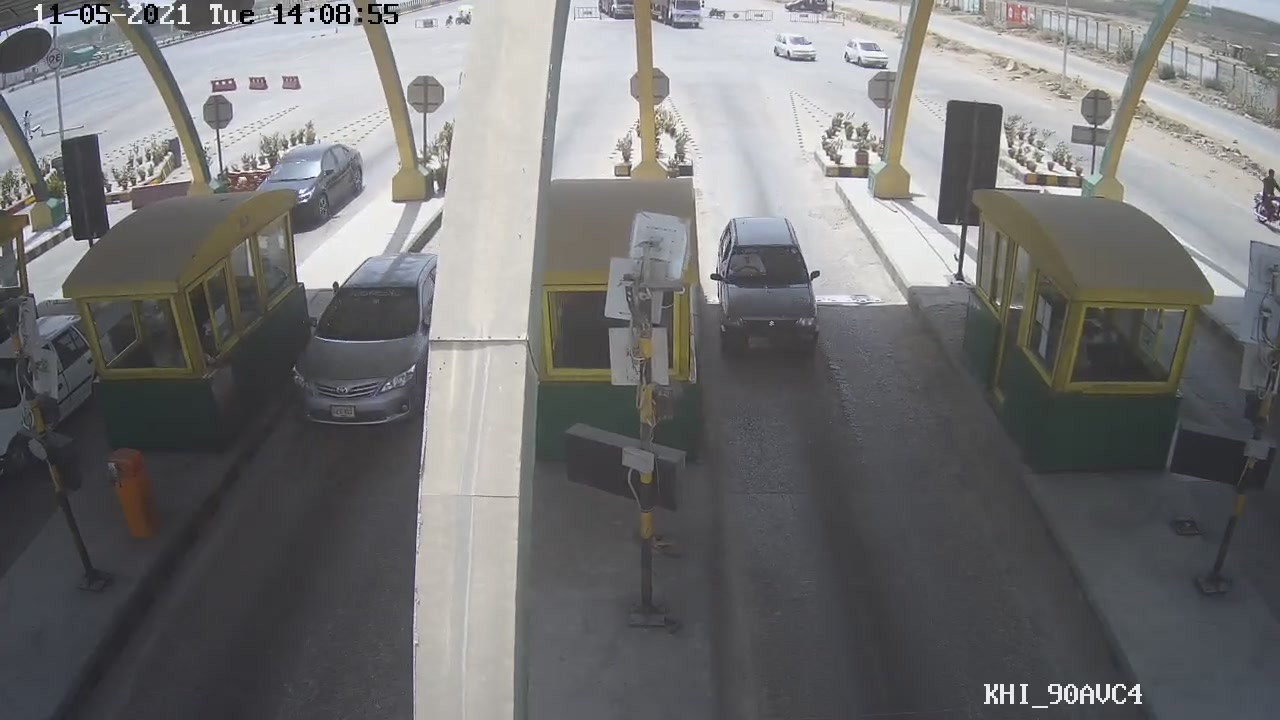F1: (705, 203, 837, 371)
